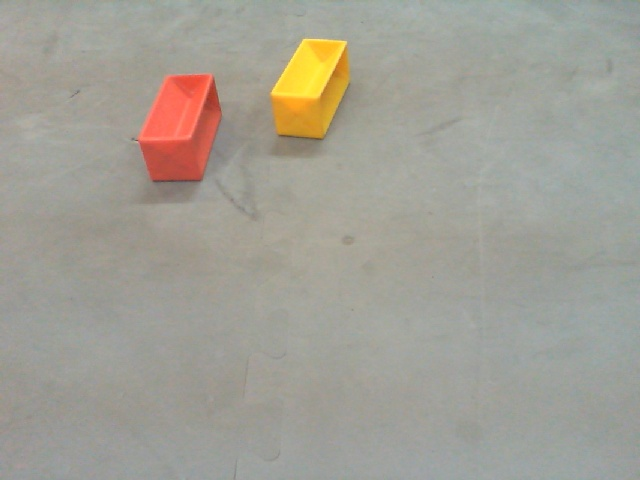RedSample: (140, 73, 223, 185)
YellowSample: (268, 34, 352, 141)
